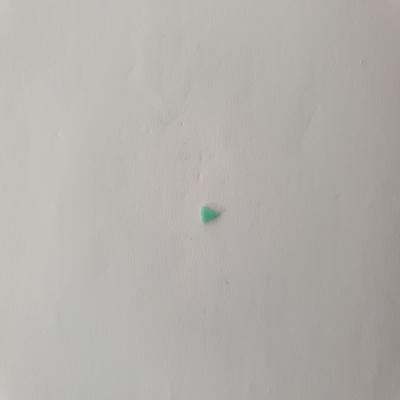plastic: (195, 201, 226, 225)
